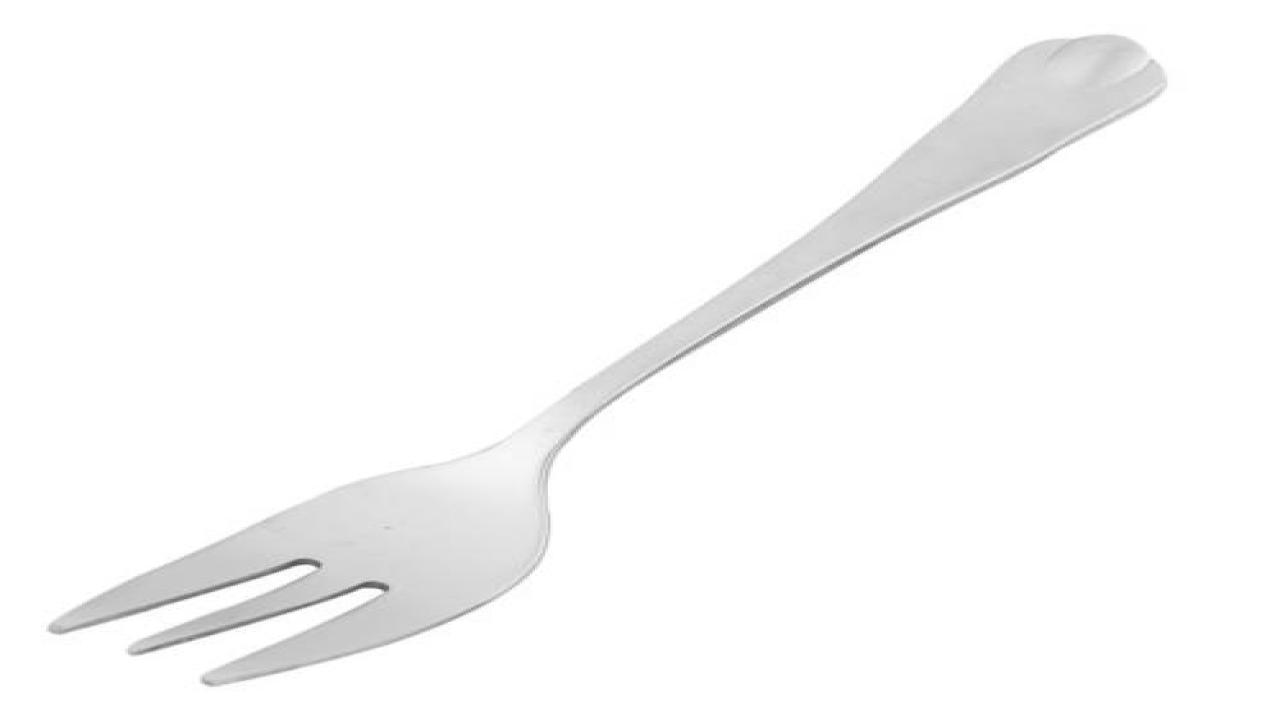fork: (46, 32, 1167, 687)
